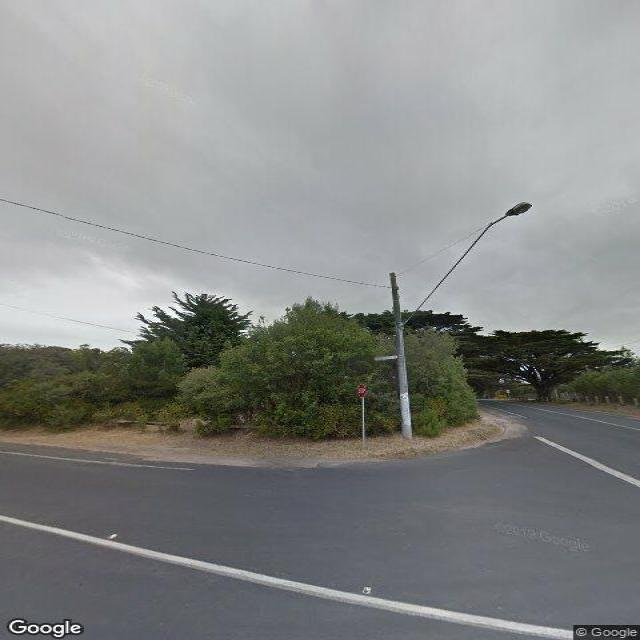concrete-pole: (390, 272, 412, 439)
streetlight: (396, 201, 533, 327)
top mount suitable pole: (389, 201, 535, 440)
